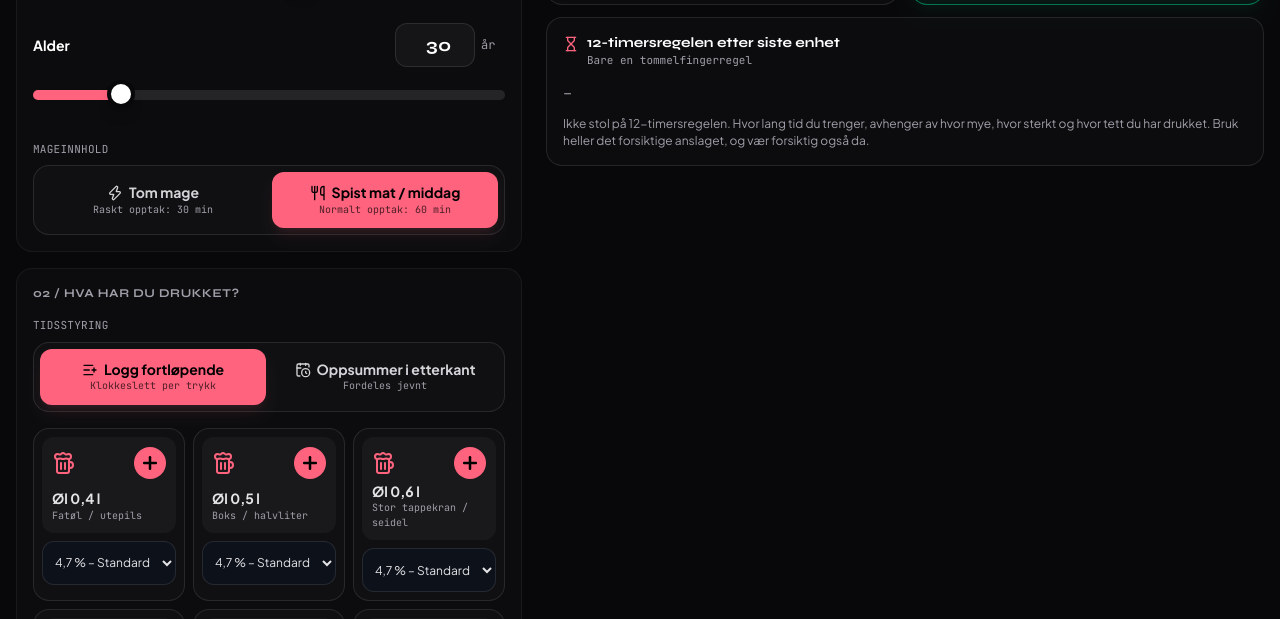
Test: Forsiktig ordbruk › sier «Anslått under 0,2 ‰» når toppen er under grensen
(page scrolled)
Click the radio button labelled "Oppsummer i etterkant Fordeles jevnt" at (385, 377), box [272,349,498,405]
(page scrolled)
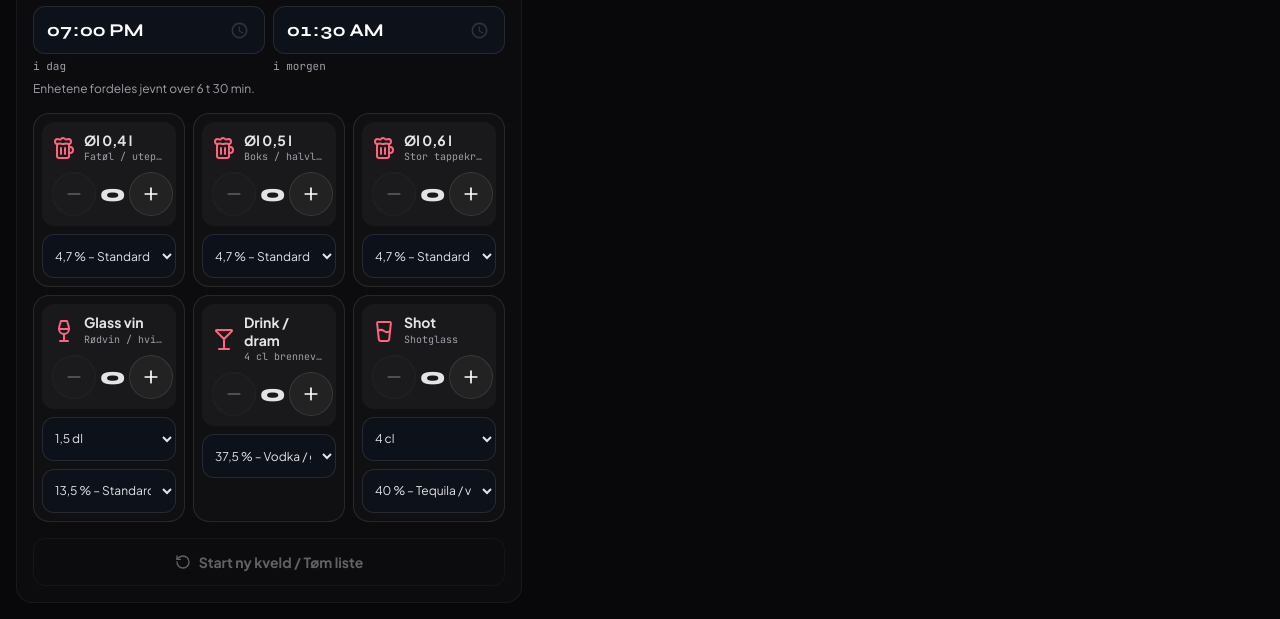
Click the button named "Én til: Shot 4 cl" at (471, 377), box [449,355,493,399]
(page scrolled)
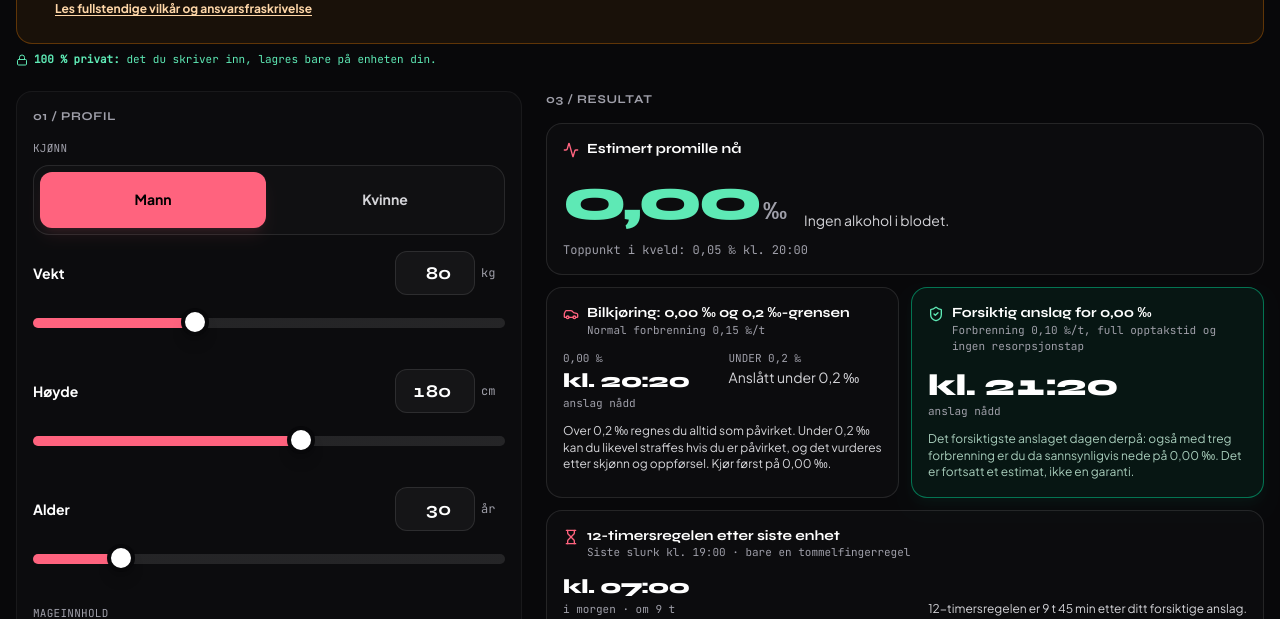
Result: the text "Anslått under 0,2 ‰" is shown at [728,367,882,387]
